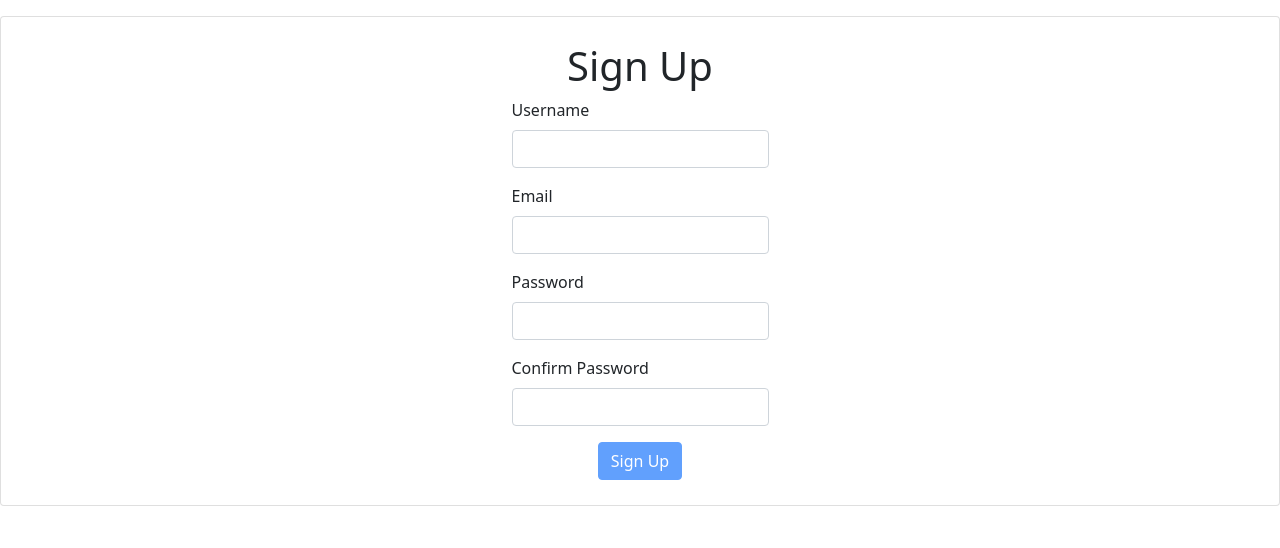
Sign Up Page › Interactions › displays Username cannot be null for username
The width and height of the screenshot is (1280, 548).
Type "Test User" into the field labelled "Username" at (640, 149), box [512,130,768,168]
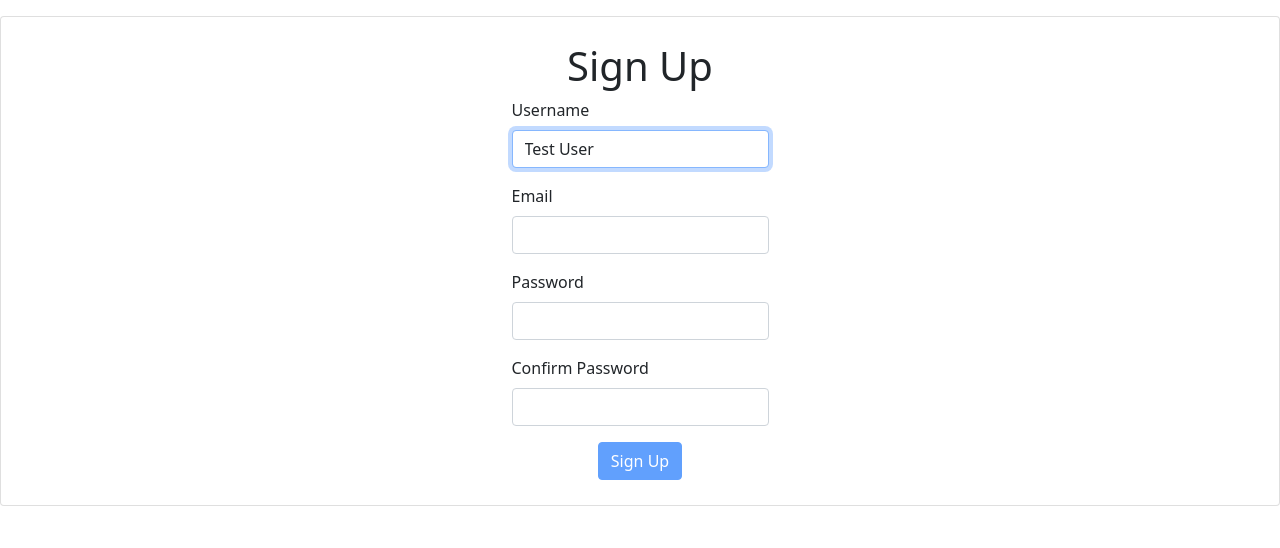
Type "test@test.com" into the field labelled "Email" at (640, 235), box [512,216,768,254]
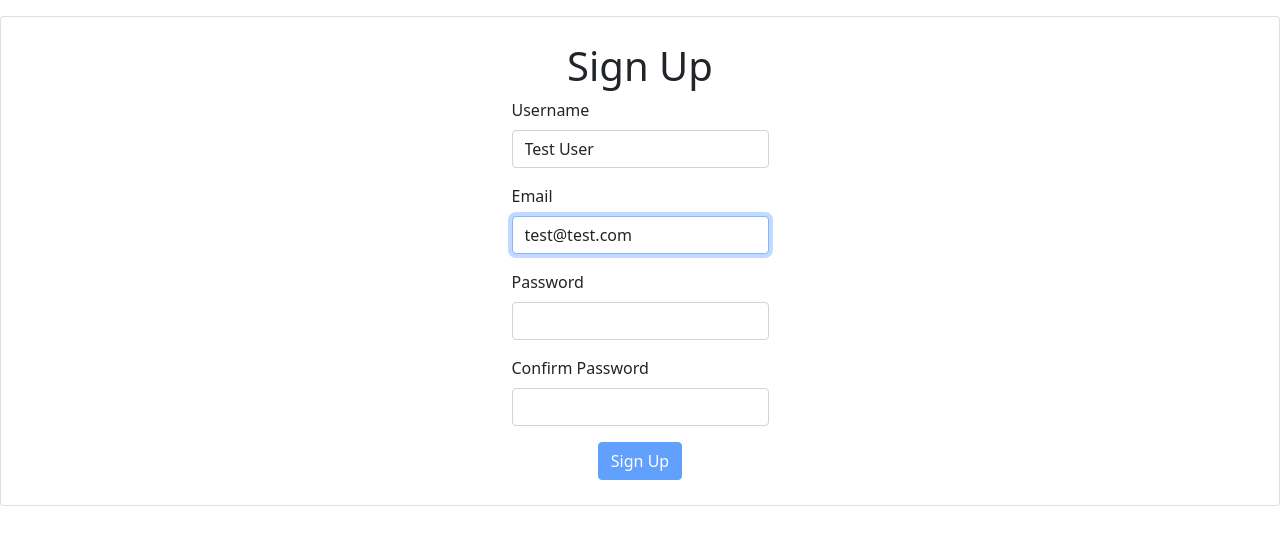
Type "password" into the password field labelled "Password" at (640, 321), box [512,302,768,340]
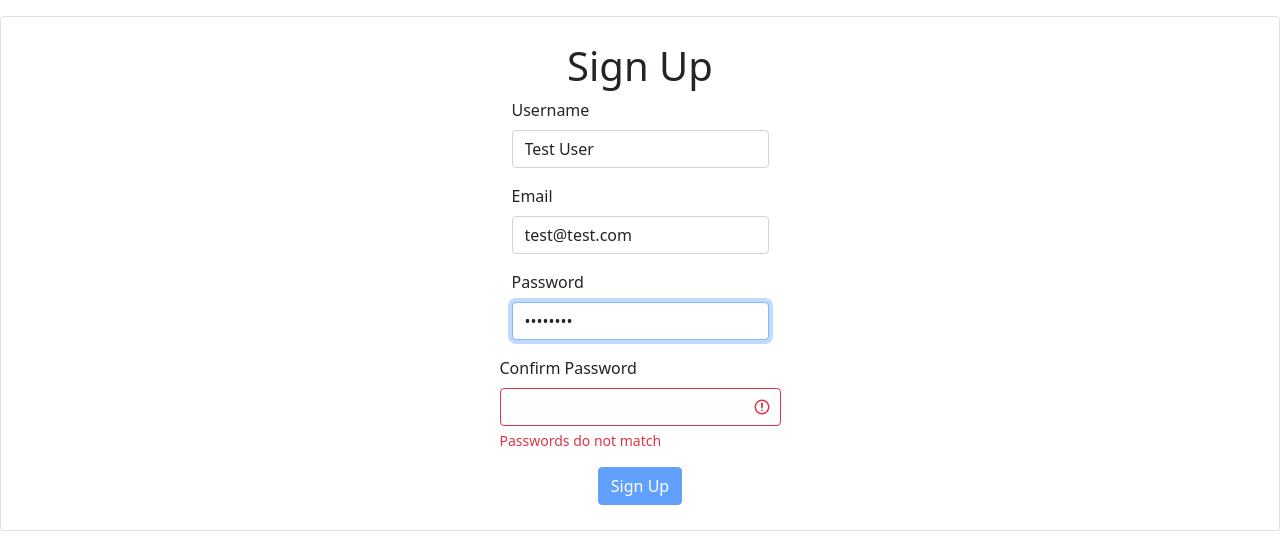
Type "password" into the password field labelled "Confirm Password" at (640, 407), box [500,388,780,426]
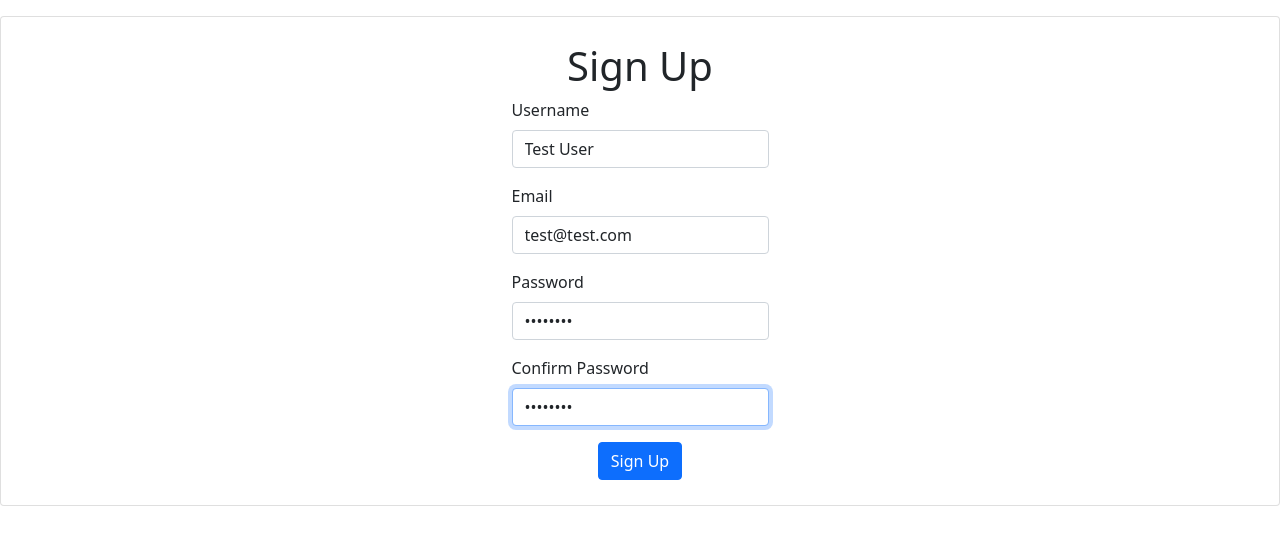
Click the button "Sign Up" at (640, 461), box [598,442,682,480]
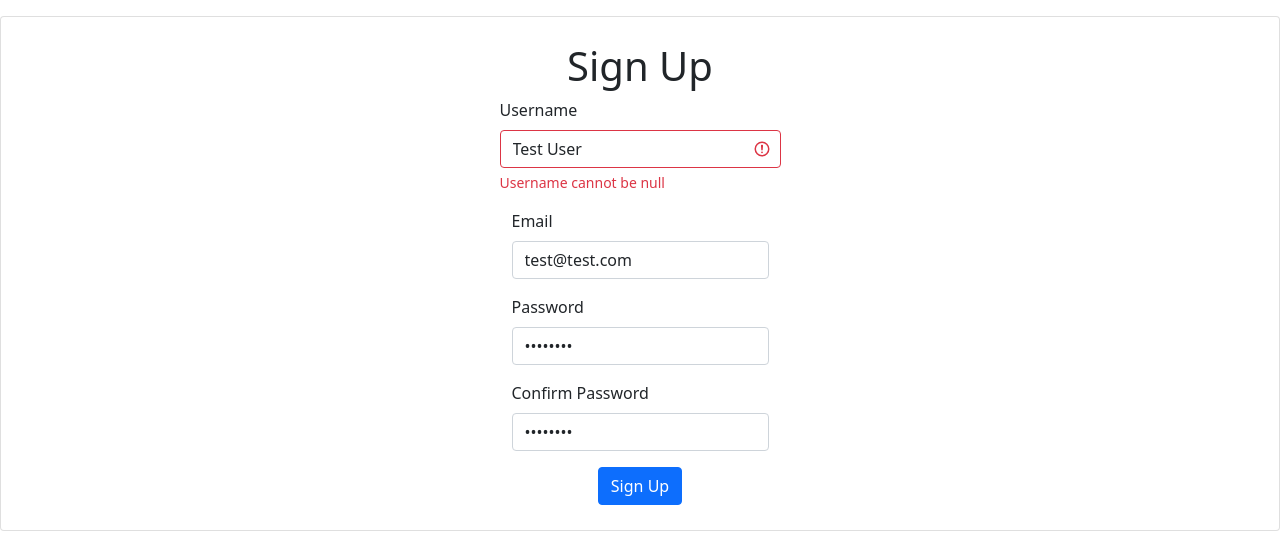
Expected: the text "Username cannot be null" is shown, [500,173,665,192]
